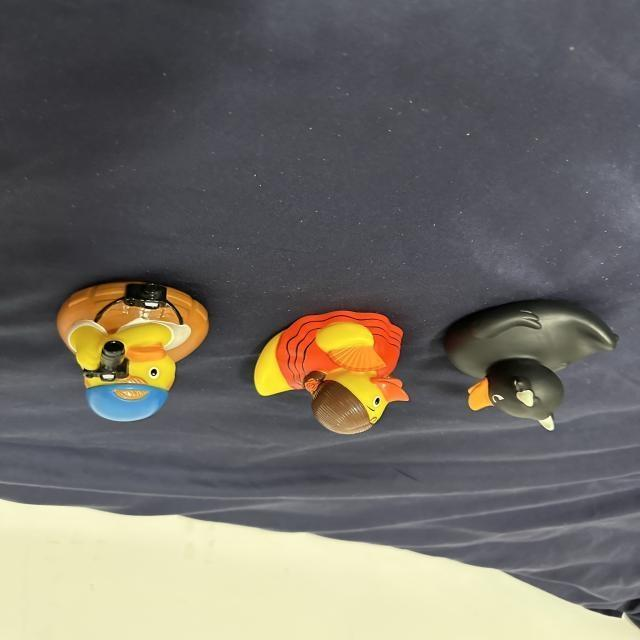rubber-duck: (443, 299, 616, 429), (56, 281, 207, 420), (253, 310, 406, 432)
